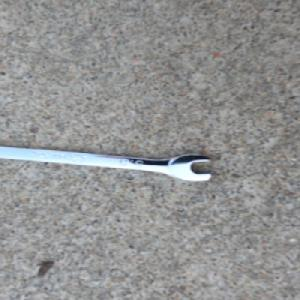Wrench: (0, 145, 215, 183)
